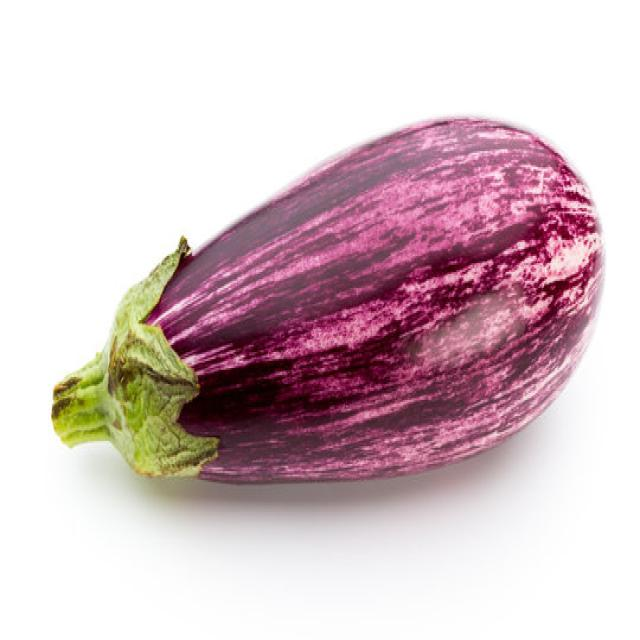Eggplant: (51, 112, 606, 485)
